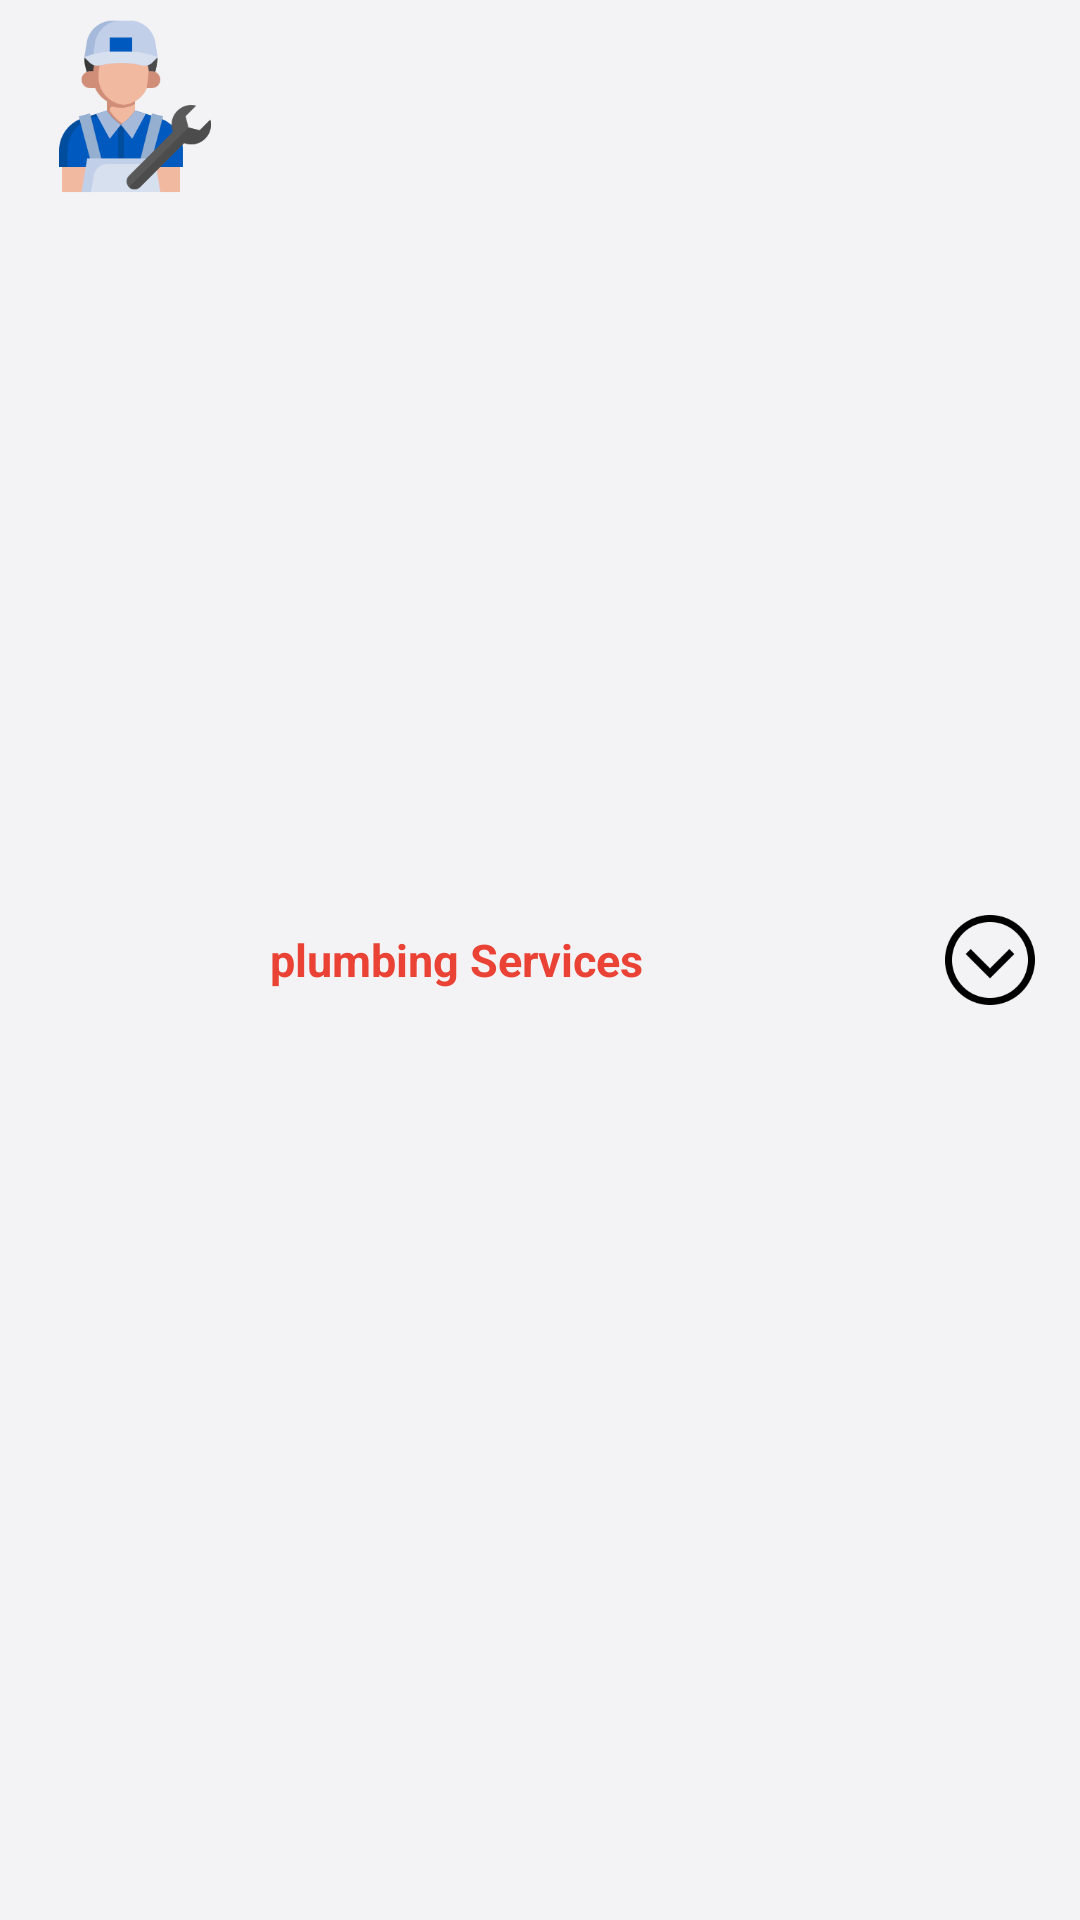

Screen size 1080 x 1920. Icon name, then its box in pixels as (x1, y1, x2, y2):
chevron: (945, 915, 1035, 1005)
technician: (59, 20, 211, 192)
